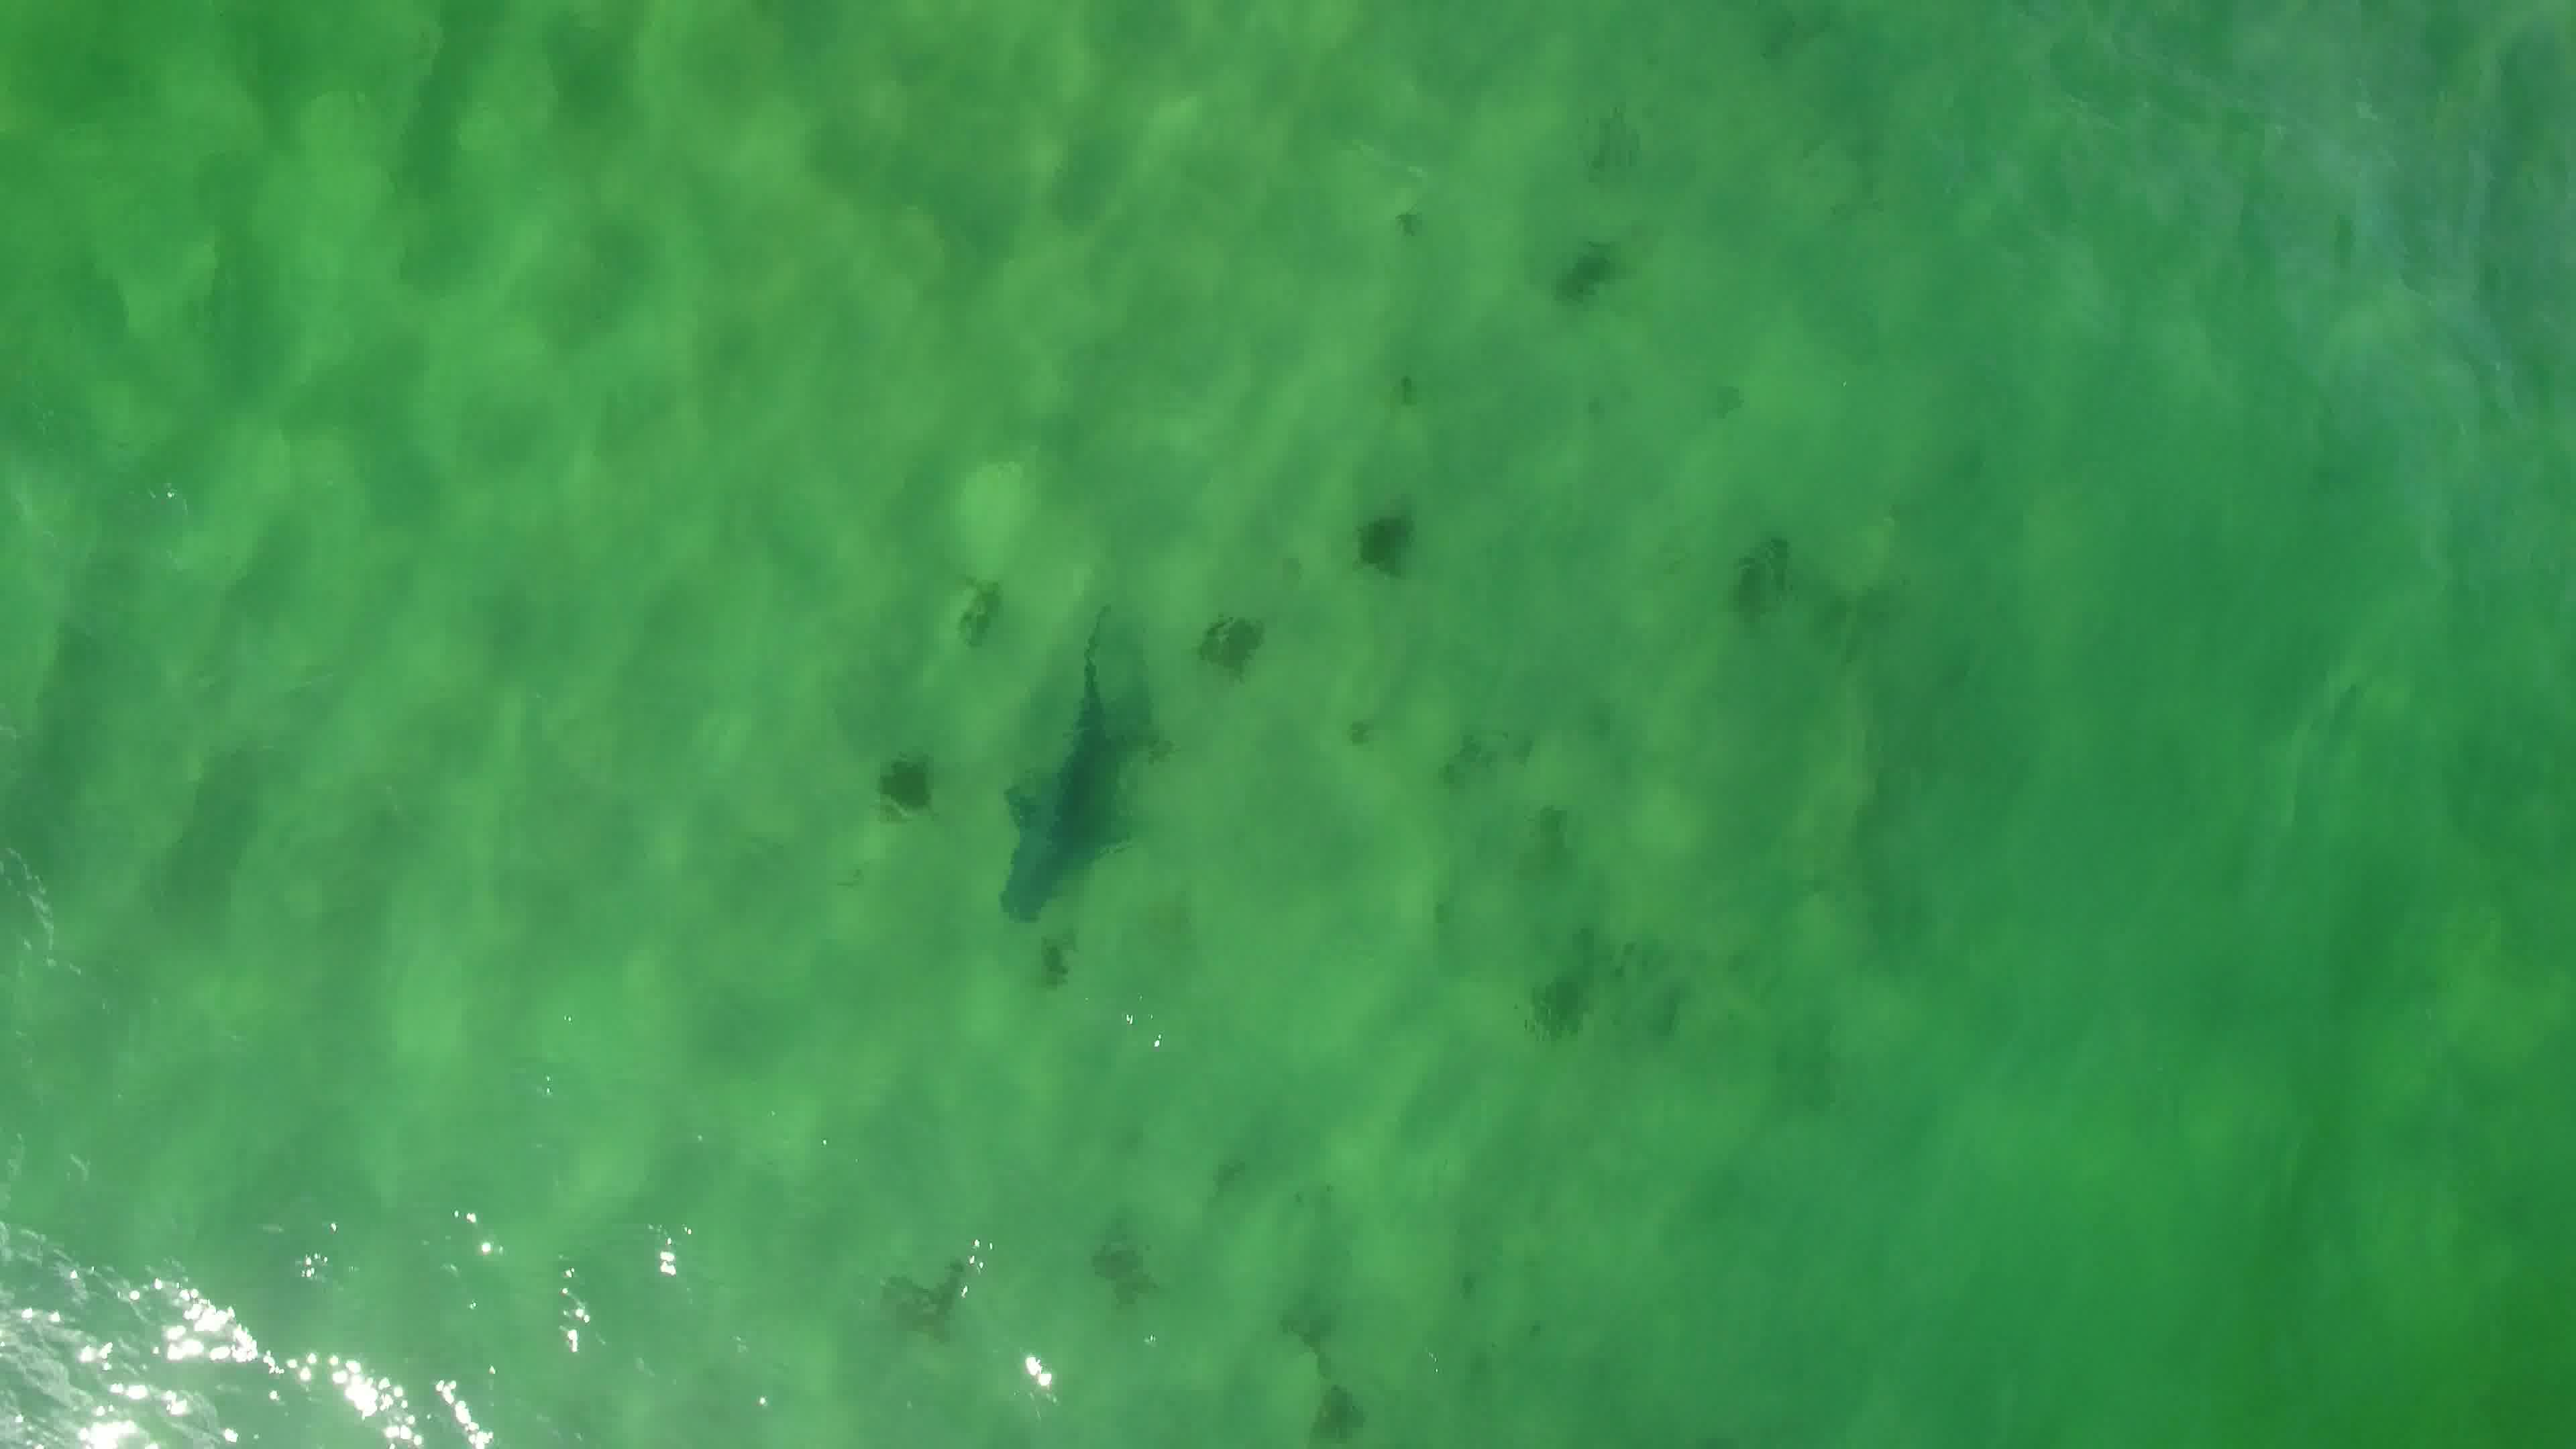shark: (996, 605, 1138, 931)
